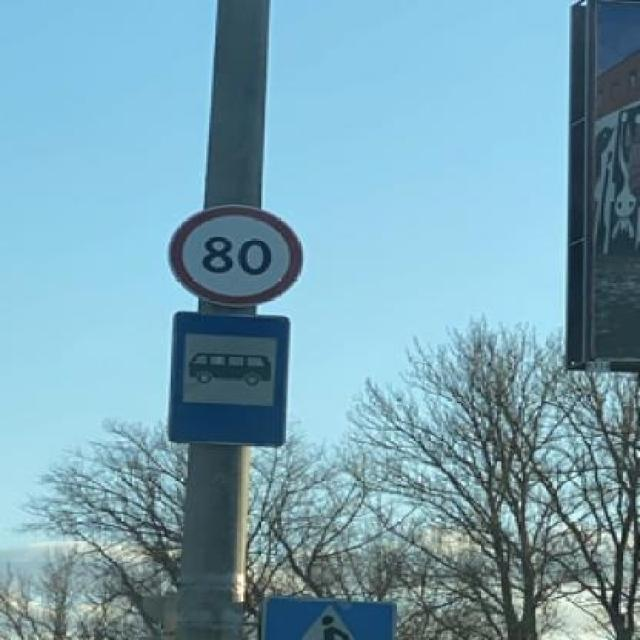forb_speed_over_80: (168, 203, 303, 309)
